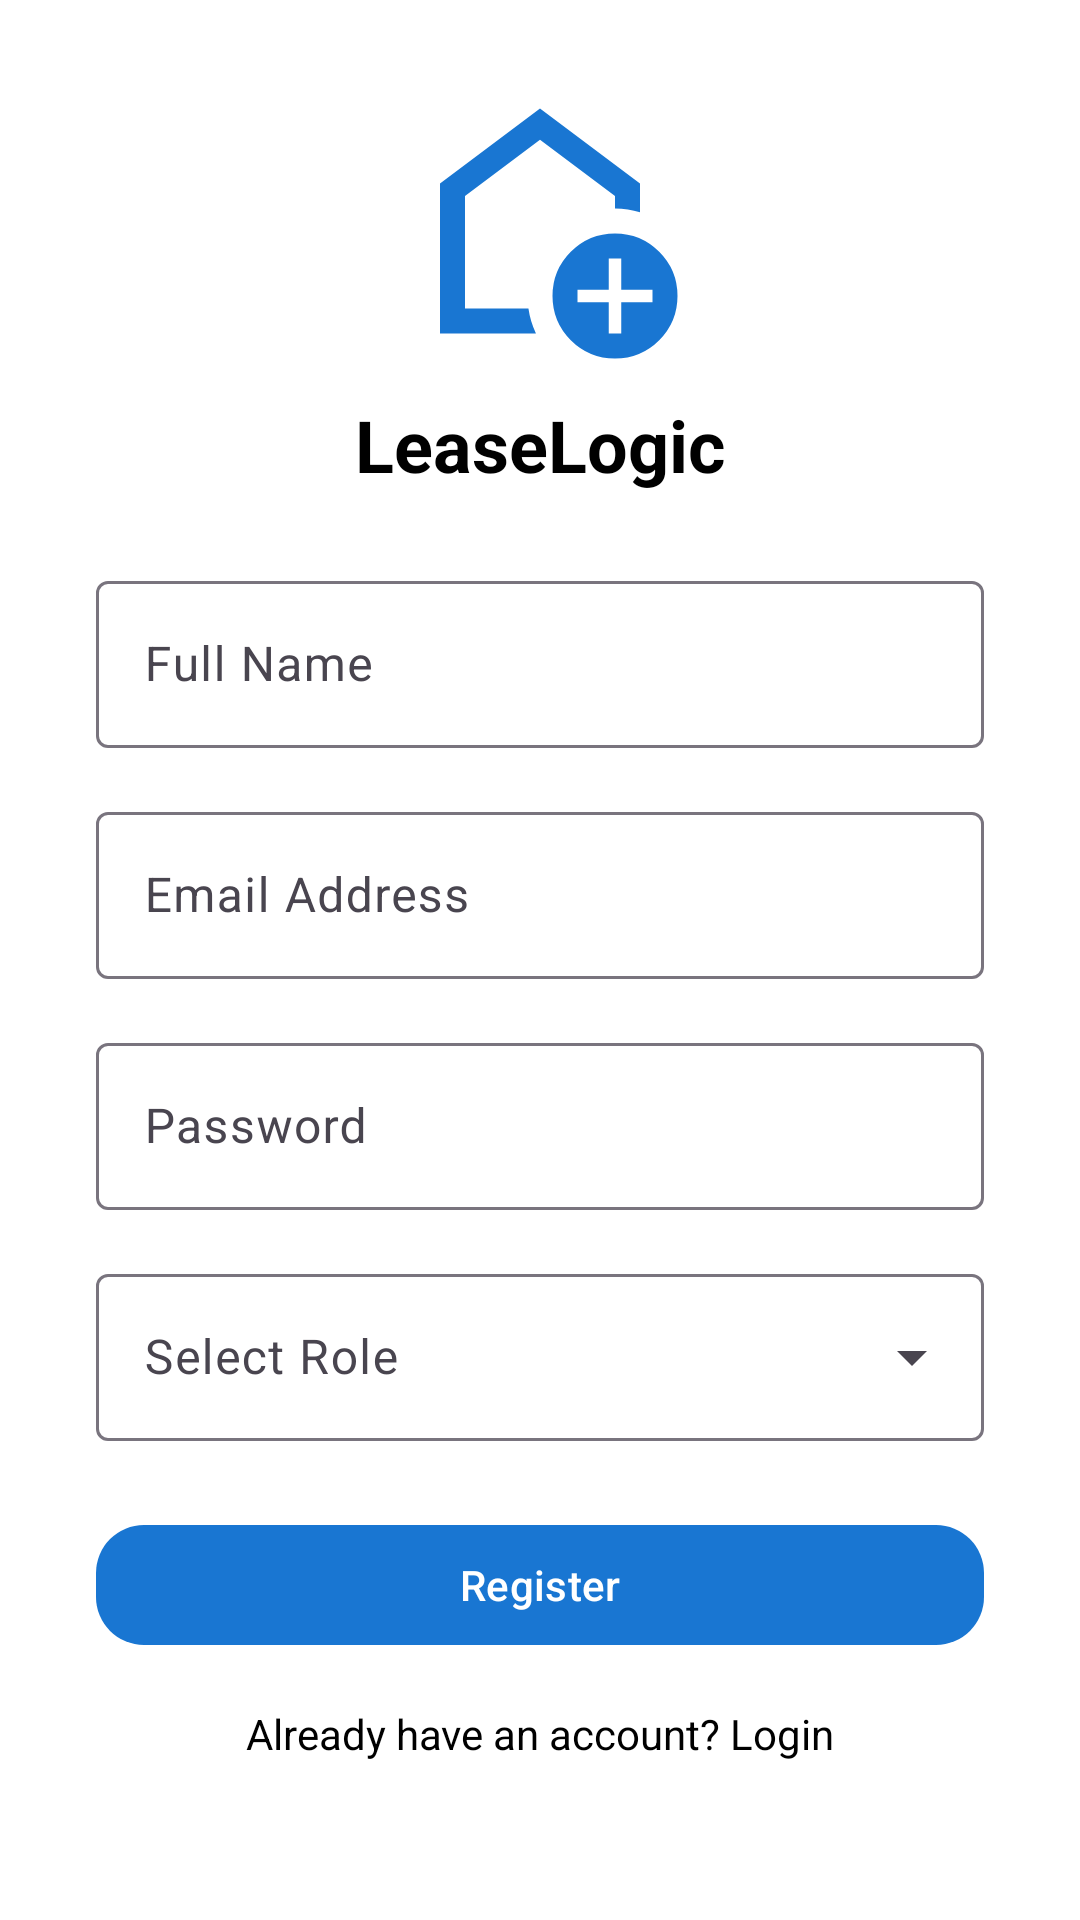

Named icons in this screenshot (1080×1920) and their bounding boxes, (x1=x1, y1=y1, x2=x2, y2=y2):
home: (x1=440, y1=108, x2=678, y2=359)
